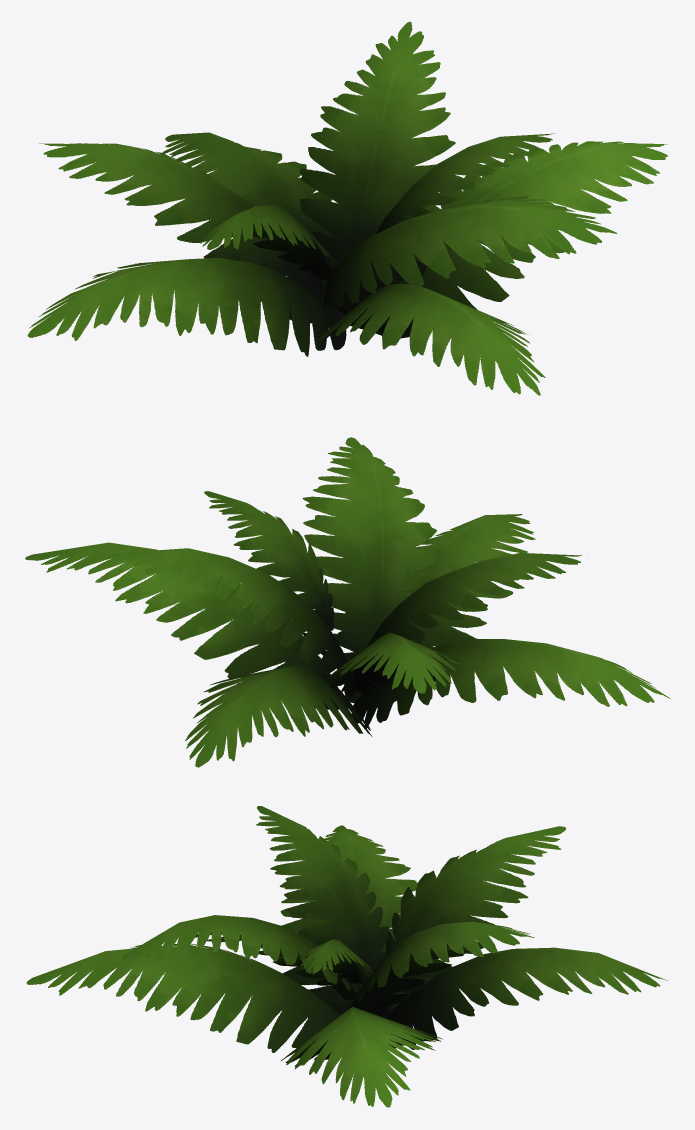
The model's file is fern.glb.
3 views of the same model, one above another, from view 1: azimuth 30°, elevation 25°; view 2: azimuth 150°, elevation 25°; view 3: azimuth 270°, elevation 25° (orthographic). The views are drawn at different scales.
Parts seen in each view (by area): view 1: Fern_1; view 2: Fern_1; view 3: Fern_1.
Boxes of the visible parts, box(x1,y1,x2,y2) form: Fern_1: box(27, 21, 667, 395); Fern_1: box(25, 437, 670, 767); Fern_1: box(26, 806, 667, 1107).
Size of the model in its own units: 2.83 by 0.8404 by 2.65.
Materials: 1 (1 with a texture image).
